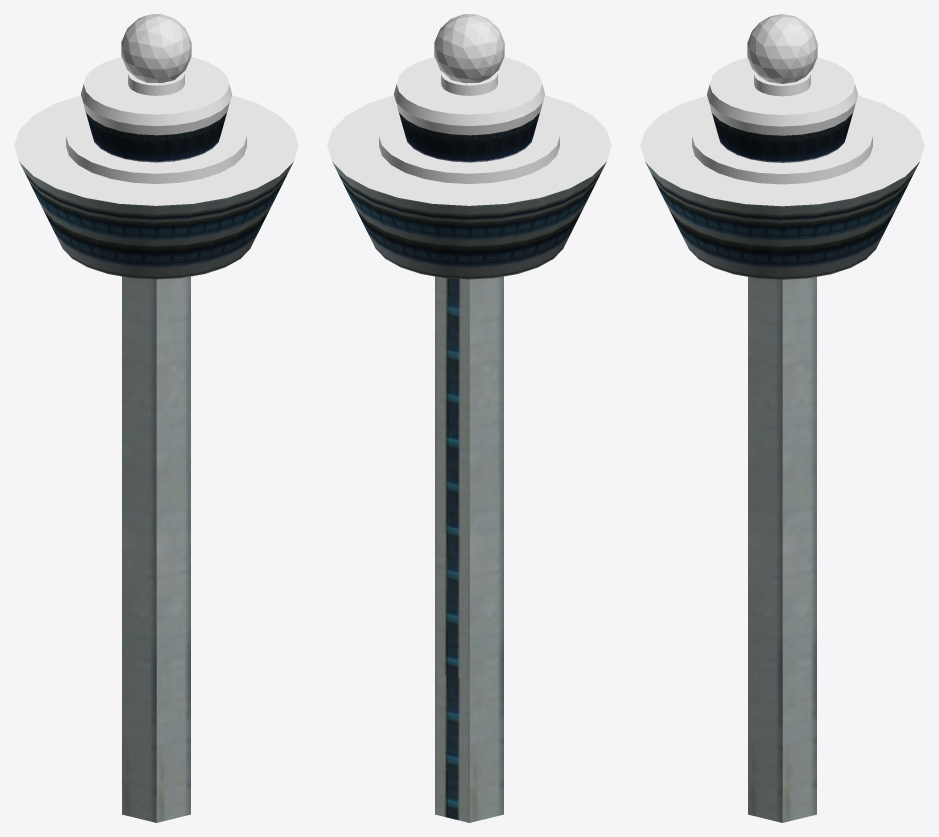
The model's file is changiAirportTower.gltf.
The picture shows the model from 3 angles, left to right: view 1: azimuth 30°, elevation 25°; view 2: azimuth 150°, elevation 25°; view 3: azimuth 270°, elevation 25°; orthographic projection.
Visible parts, largest first — view 1: SketchUp.007, SketchUp.010, SketchUp.005, SketchUp.003, SketchUp.002, instance_0, SketchUp.009, SketchUp.004; view 2: SketchUp.007, SketchUp.010, SketchUp.005, SketchUp.003, SketchUp.002, instance_0, SketchUp.009, SketchUp.004; view 3: SketchUp.007, SketchUp.010, SketchUp.005, SketchUp.003, SketchUp.002, instance_0, SketchUp.009, SketchUp.004.
Part boxes in pixels (x1,y1,x2,y2): SketchUp.007: (122, 276, 190, 822); SketchUp.010: (19, 161, 293, 279); SketchUp.005: (14, 95, 298, 205); SketchUp.003: (81, 57, 231, 135); SketchUp.002: (66, 112, 246, 183); instance_0: (121, 14, 191, 83); SketchUp.009: (85, 109, 227, 162); SketchUp.004: (128, 71, 184, 95); SketchUp.007: (435, 276, 503, 822); SketchUp.010: (332, 161, 606, 279); SketchUp.005: (327, 95, 611, 205); SketchUp.003: (394, 57, 544, 135); SketchUp.002: (379, 112, 559, 183); instance_0: (434, 14, 504, 83); SketchUp.009: (398, 109, 540, 162); SketchUp.004: (441, 71, 497, 95); SketchUp.007: (748, 277, 816, 822); SketchUp.010: (645, 162, 919, 279); SketchUp.005: (640, 95, 924, 206); SketchUp.003: (707, 57, 857, 135); SketchUp.002: (692, 112, 872, 184); instance_0: (747, 14, 817, 83); SketchUp.009: (711, 110, 853, 162); SketchUp.004: (754, 72, 810, 96).
Bounding box in the file's own units: 2.5 × 7.65 × 2.5.
6 materials, 3 textured.
